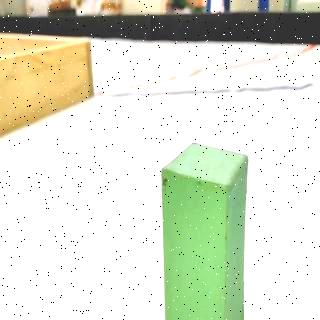greenbox: (158, 139, 250, 320)
